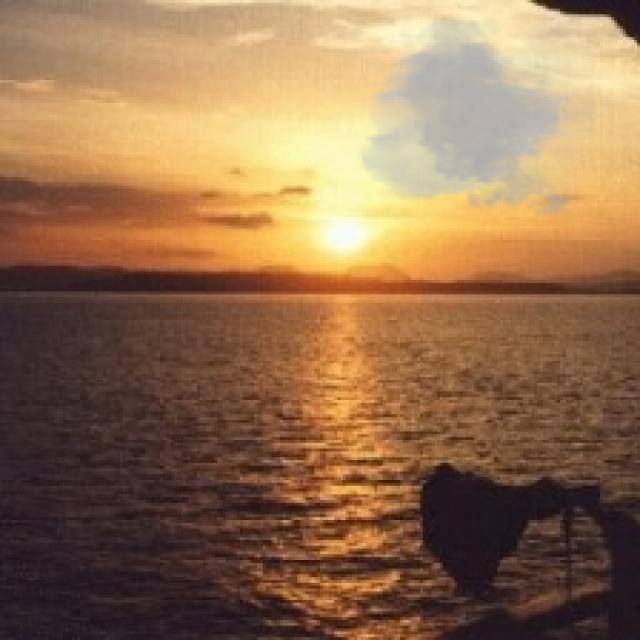Smoke: (354, 11, 594, 223)
